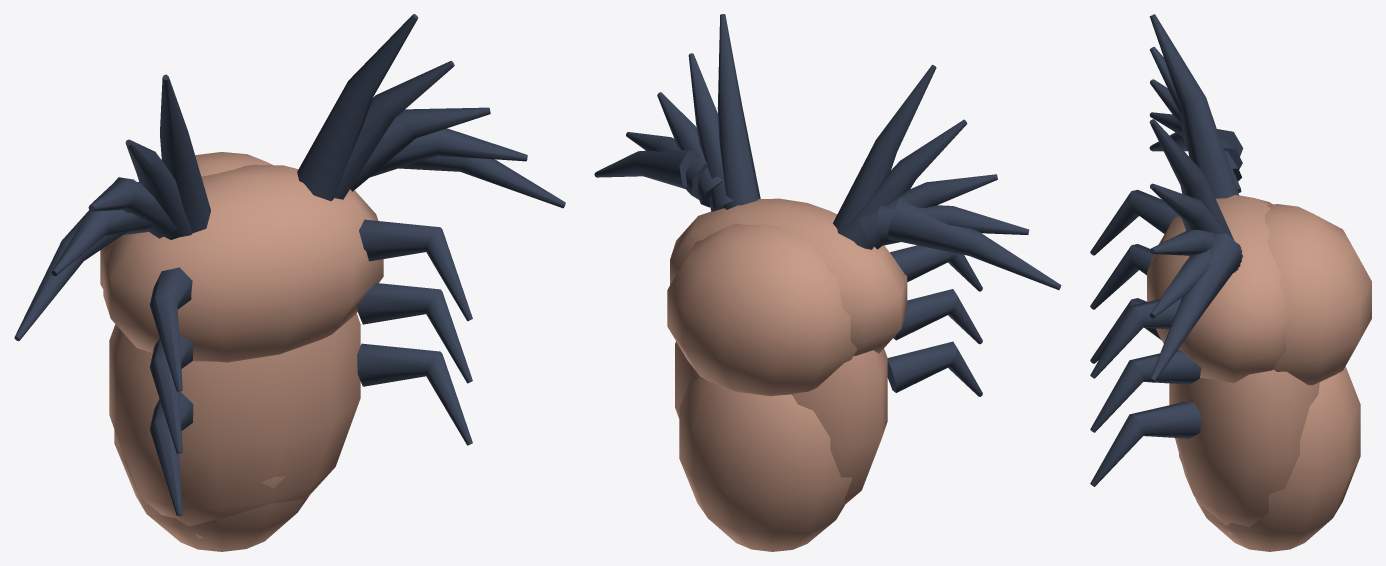
The model's file is gorehulk_b_body.obj.
3 views of the same model, side by side, from view 1: azimuth 30°, elevation 25°; view 2: azimuth 150°, elevation 25°; view 3: azimuth 270°, elevation 25° (orthographic). The views are drawn at different scales.
Parts seen in each view (by area): view 1: source_component_001, source_component_000, source_component_012, source_component_002, source_component_019, source_component_018, source_component_017, source_component_004, source_component_013, source_component_014, source_component_015, source_component_009 (+8 smaller); view 2: source_component_003, source_component_002, source_component_001, source_component_000, source_component_012, source_component_008, source_component_004, source_component_005, source_component_011, source_component_013, source_component_016, source_component_006 (+5 smaller); view 3: source_component_000, source_component_003, source_component_001, source_component_002, source_component_004, source_component_016, source_component_019, source_component_018, source_component_012, source_component_017, source_component_009, source_component_013 (+8 smaller).
Boxes of the visible parts, x1=… form: source_component_001: x1=103, y1=164, x2=383, y2=362; source_component_000: x1=109, y1=313, x2=360, y2=538; source_component_012: x1=297, y1=14, x2=418, y2=201; source_component_002: x1=114, y1=430, x2=308, y2=551; source_component_019: x1=357, y1=343, x2=472, y2=445; source_component_018: x1=357, y1=283, x2=472, y2=383; source_component_017: x1=359, y1=219, x2=472, y2=321; source_component_004: x1=160, y1=74, x2=210, y2=232; source_component_013: x1=334, y1=61, x2=454, y2=199; source_component_014: x1=350, y1=107, x2=490, y2=191; source_component_015: x1=370, y1=128, x2=527, y2=177; source_component_009: x1=149, y1=267, x2=192, y2=391; source_component_003: x1=667, y1=223, x2=857, y2=396; source_component_002: x1=679, y1=376, x2=852, y2=551; source_component_001: x1=670, y1=198, x2=907, y2=356; source_component_000: x1=675, y1=341, x2=887, y2=505; source_component_012: x1=717, y1=14, x2=760, y2=209; source_component_008: x1=887, y1=197, x2=1061, y2=289; source_component_004: x1=833, y1=64, x2=936, y2=240; source_component_005: x1=844, y1=119, x2=967, y2=249; source_component_011: x1=887, y1=341, x2=982, y2=396; source_component_013: x1=688, y1=53, x2=733, y2=211; source_component_016: x1=594, y1=149, x2=697, y2=188; source_component_006: x1=860, y1=174, x2=997, y2=249; source_component_000: x1=1169, y1=369, x2=1319, y2=535; source_component_003: x1=1265, y1=204, x2=1371, y2=385; source_component_001: x1=1147, y1=195, x2=1290, y2=383; source_component_002: x1=1179, y1=366, x2=1360, y2=551; source_component_004: x1=1149, y1=14, x2=1238, y2=198; source_component_016: x1=1149, y1=233, x2=1241, y2=382; source_component_019: x1=1090, y1=402, x2=1201, y2=486; source_component_018: x1=1090, y1=349, x2=1201, y2=432; source_component_012: x1=1149, y1=119, x2=1233, y2=239; source_component_017: x1=1090, y1=297, x2=1181, y2=378; source_component_009: x1=1090, y1=189, x2=1177, y2=255; source_component_013: x1=1150, y1=183, x2=1243, y2=272.
Bounding box in the file's own units: 1.48 × 1.41 × 0.755.
